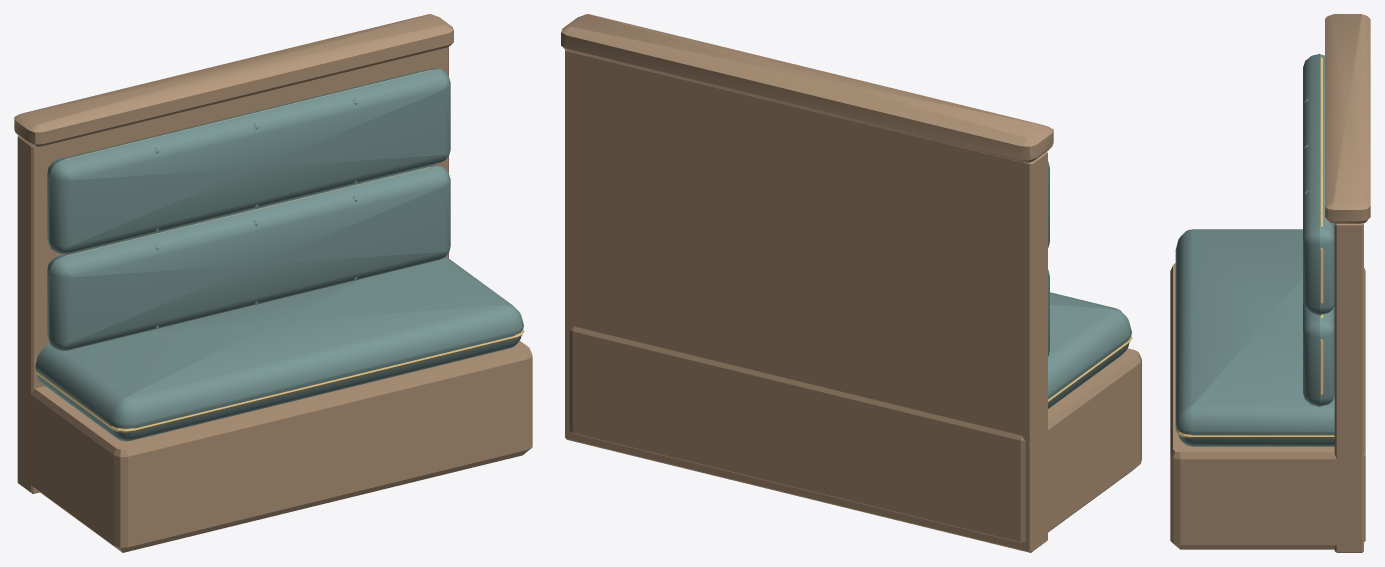
File: restaurant-kitchen-and-dining-banquette-bench-1400-4d81ee58__16497.glb
3 views of the same model, side by side, from view 1: azimuth 30°, elevation 25°; view 2: azimuth 150°, elevation 25°; view 3: azimuth 270°, elevation 25° (orthographic). The views are drawn at different scales.
Visible parts, largest first — view 1: banquette-bench-1400; view 2: banquette-bench-1400; view 3: banquette-bench-1400.
Part boxes in pixels (box(x1,y1,x2,y2)): banquette-bench-1400: box(14, 14, 532, 552); banquette-bench-1400: box(561, 14, 1141, 552); banquette-bench-1400: box(1170, 14, 1370, 552).
Bounding box in the file's own units: 1.42 × 1.18 × 0.6151.
